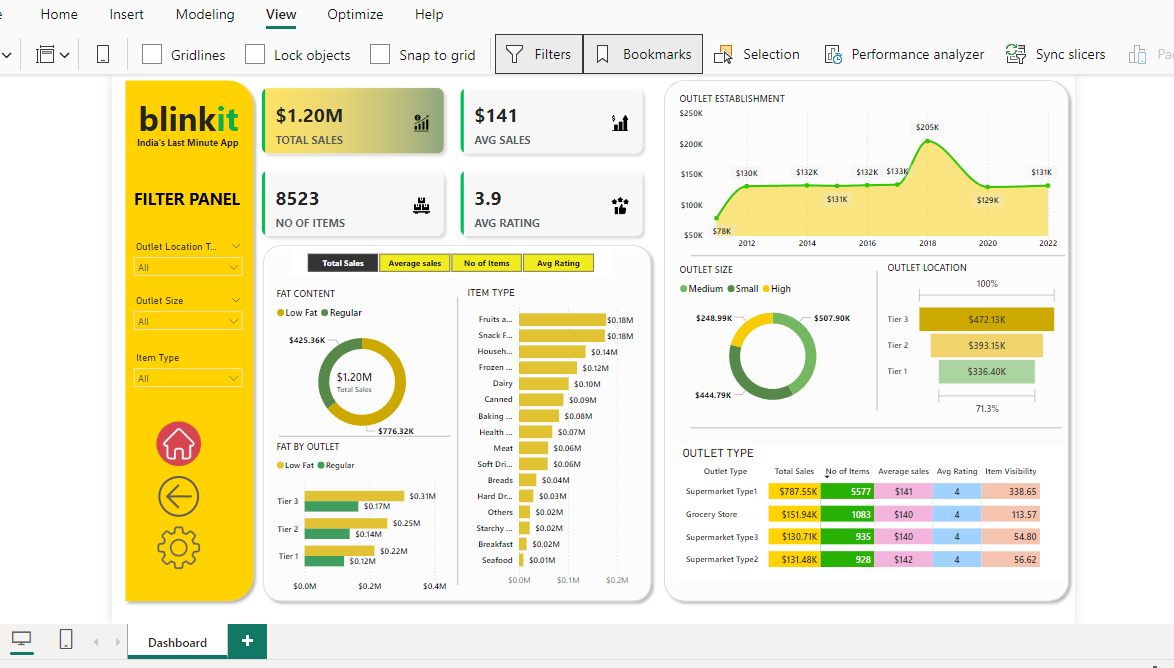

The dashboard page shown, as its layout file describes it:
{"tool":"powerbi","page":{"name":"Dashboard","canvas":[1400,800],"ordinal":0},"visuals":[{"type":"shape","box":[9.6,0,204.8,776],"z":0},{"type":"textbox","box":[22,25.7,178.2,77.2],"z":1000},{"type":"textbox","box":[22,86.4,176.4,31.2],"z":2000},{"type":"cardVisual","fields":{"Data":["BlinkIT Grocery Data.Total Sales","BlinkIT Grocery Data.Average sales","BlinkIT Grocery Data.No of Items","BlinkIT Grocery Data.Avg Rating"]},"box":[200,3.2,588.8,251.2],"z":3000},{"type":"shape","box":[211.2,240,582.4,536],"z":4000},{"type":"donutChart","title":"FAT CONTENT","fields":{"Y":["BlinkIT Grocery Data.Total Sales"],"Category":["BlinkIT Grocery Data.Item Fat Content"]},"box":[233.6,310.4,259.2,230.4],"z":5000},{"type":"slicer","fields":{"Values":["Metrics.Metrics"]},"box":[259.2,254.4,465.6,40],"z":6000},{"type":"cardVisual","fields":{"Data":["BlinkIT Grocery Data.Total Sales"]},"box":[305.6,412.8,94.4,70.4],"z":7000},{"type":"clusteredBarChart","title":"FAT BY OUTLET","fields":{"Y":["BlinkIT Grocery Data.Total Sales"],"Category":["BlinkIT Grocery Data.Outlet Location Type"],"Series":["BlinkIT Grocery Data.Item Fat Content"]},"box":[233.6,532.8,259.2,230.4],"z":8000},{"type":"shape","box":[243.2,513.6,249.6,27.2],"z":9000},{"type":"shape","box":[492.8,324.8,19.2,419.2],"z":10000},{"type":"clusteredBarChart","title":"ITEM TYPE","fields":{"Y":["BlinkIT Grocery Data.Total Sales"],"Category":["BlinkIT Grocery Data.Item Type"]},"box":[512,310.4,268.8,444.8],"z":11000},{"type":"shape","box":[793.6,0,606.4,776],"z":12000},{"type":"lineChart","title":"OUTLET ESTABLISHMENT","fields":{"Category":["BlinkIT Grocery Data.Outlet Establishment Year"],"Y":["BlinkIT Grocery Data.Total Sales"]},"box":[820.8,25.6,560,238.4],"z":13000},{"type":"shape","box":[841.6,254.4,544,19.2],"z":14000},{"type":"donutChart","title":"OUTLET SIZE","fields":{"Y":["BlinkIT Grocery Data.Total Sales"],"Category":["BlinkIT Grocery Data.Outlet Size"]},"box":[820.8,275.2,281.6,225.6],"z":15000},{"type":"shape","box":[1104,286.4,17.6,203.2],"z":16000},{"type":"funnel","title":"OUTLET LOCATION","fields":{"Y":["BlinkIT Grocery Data.Total Sales"],"Category":["BlinkIT Grocery Data.Outlet Location Type"]},"box":[1123.2,272,257.6,228.8],"z":17000},{"type":"shape","box":[841.6,502.4,539.2,25.6],"z":18000},{"type":"pivotTable","title":"OUTLET TYPE","fields":{"Rows":["BlinkIT Grocery Data.Outlet Type"],"Values":["BlinkIT Grocery Data.Total Sales","BlinkIT Grocery Data.No of Items","BlinkIT Grocery Data.Average sales","BlinkIT Grocery Data.Avg Rating","Sum(BlinkIT Grocery Data.Item Visibility)"]},"box":[824,540.8,560,198.4],"z":19000},{"type":"slicer","fields":{"Values":["BlinkIT Grocery Data.Outlet Location Type"]},"box":[22.4,238.4,177.6,70.4],"z":20000},{"type":"slicer","fields":{"Values":["BlinkIT Grocery Data.Outlet Size"]},"box":[22.4,316.8,177.6,70.4],"z":21000},{"type":"slicer","fields":{"Values":["BlinkIT Grocery Data.Item Type"]},"box":[22.4,400,177.6,70.4],"z":22000},{"type":"textbox","box":[17.6,160,182.4,44.8],"z":22001},{"type":"image","box":[59.2,500.8,75.2,75.2],"z":22002},{"type":"actionButton","box":[59.1,575.7,74.8,77.2],"z":22004},{"type":"image","box":[61.6,652.9,72.4,72.4],"z":22005}]}

Visuals, with their boxes on the page's 1400x800 design canvas (x1, y1, x2, y2). These are canvas units, not pixel positions in the 1174x668 screenshot, which may show the page scaled, cropped or inside an application window:
shape: (10, 0, 214, 776)
textbox: (22, 26, 200, 103)
textbox: (22, 86, 198, 118)
cardVisual - BlinkIT Grocery Data.Total Sales x BlinkIT Grocery Data.Average sales: (200, 3, 789, 254)
shape: (211, 240, 794, 776)
"FAT CONTENT" donutChart: (234, 310, 493, 541)
slicer - Metrics.Metrics: (259, 254, 725, 294)
cardVisual - BlinkIT Grocery Data.Total Sales: (306, 413, 400, 483)
"FAT BY OUTLET" clusteredBarChart: (234, 533, 493, 763)
shape: (243, 514, 493, 541)
shape: (493, 325, 512, 744)
"ITEM TYPE" clusteredBarChart: (512, 310, 781, 755)
shape: (794, 0, 1400, 776)
"OUTLET ESTABLISHMENT" lineChart: (821, 26, 1381, 264)
shape: (842, 254, 1386, 274)
"OUTLET SIZE" donutChart: (821, 275, 1102, 501)
shape: (1104, 286, 1122, 490)
"OUTLET LOCATION" funnel: (1123, 272, 1381, 501)
shape: (842, 502, 1381, 528)
"OUTLET TYPE" pivotTable: (824, 541, 1384, 739)
slicer - BlinkIT Grocery Data.Outlet Location Type: (22, 238, 200, 309)
slicer - BlinkIT Grocery Data.Outlet Size: (22, 317, 200, 387)
slicer - BlinkIT Grocery Data.Item Type: (22, 400, 200, 470)
textbox: (18, 160, 200, 205)
image: (59, 501, 134, 576)
actionButton: (59, 576, 134, 653)
image: (62, 653, 134, 725)
